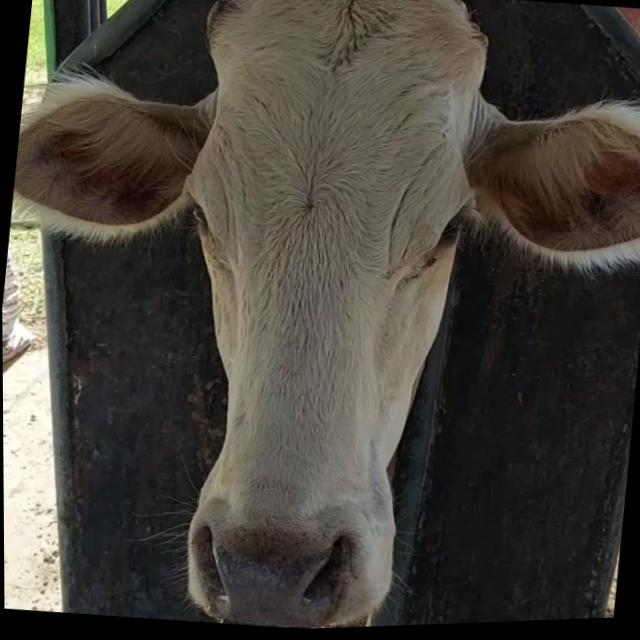cowFace: (141, 0, 492, 636)
